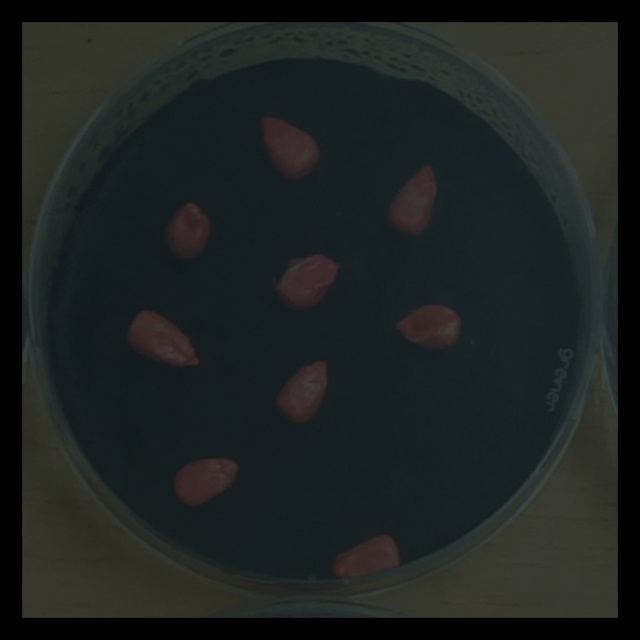Zea mays: (118, 302, 208, 375), (265, 248, 346, 320), (254, 112, 326, 188), (380, 158, 444, 243), (269, 353, 337, 431), (167, 450, 246, 516), (387, 297, 467, 357), (323, 529, 405, 586), (158, 195, 217, 266)
